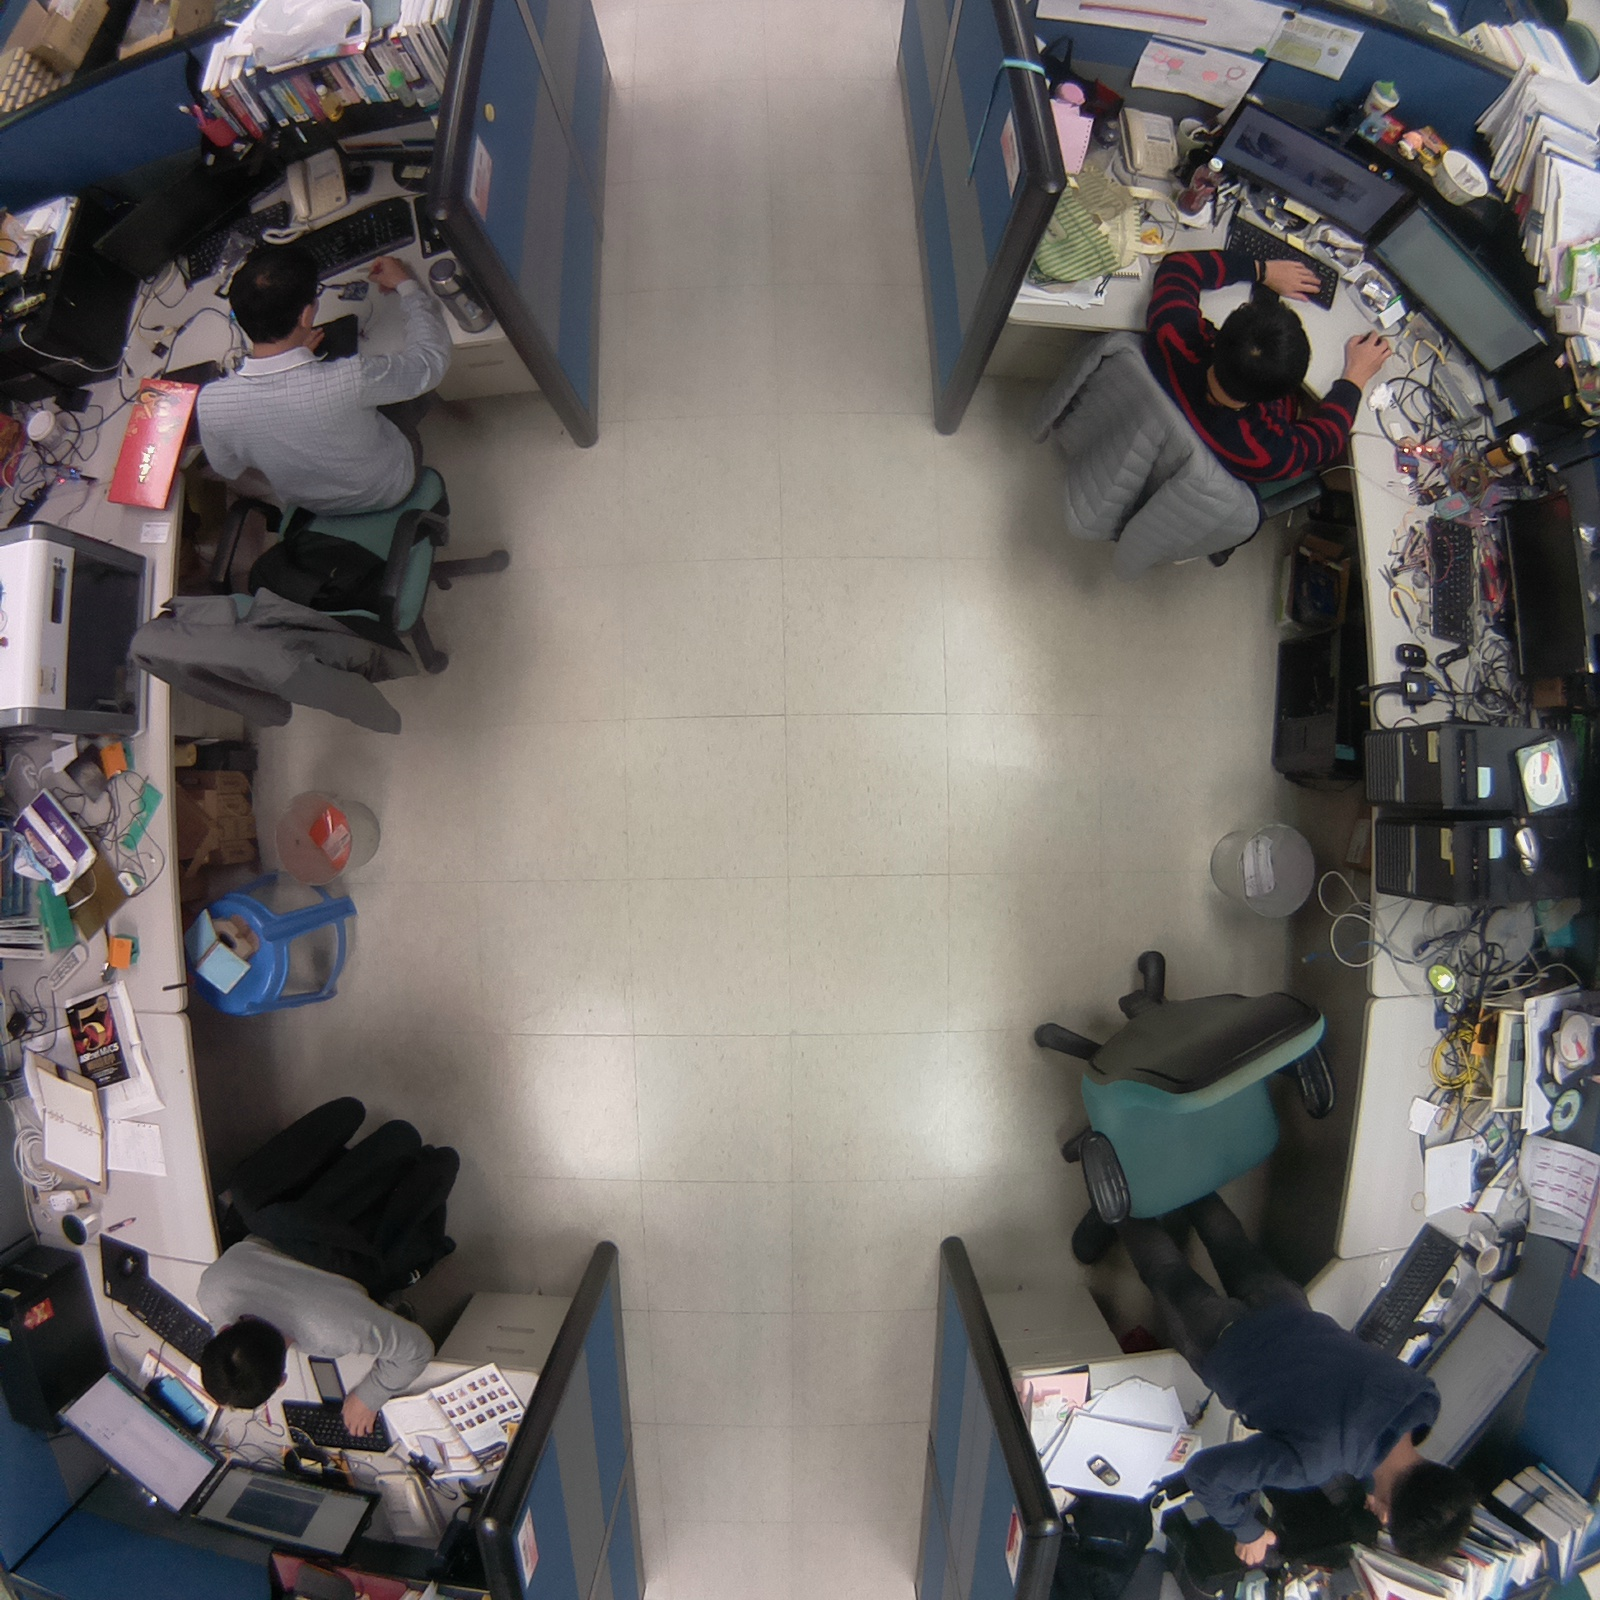chair: (1027, 922, 1342, 1242)
head: (1206, 282, 1321, 414), (1368, 1444, 1480, 1574), (219, 242, 329, 355), (189, 1302, 295, 1412)
sitting: (122, 244, 517, 740), (1062, 1183, 1481, 1578), (1017, 235, 1388, 593), (181, 1088, 483, 1440)
